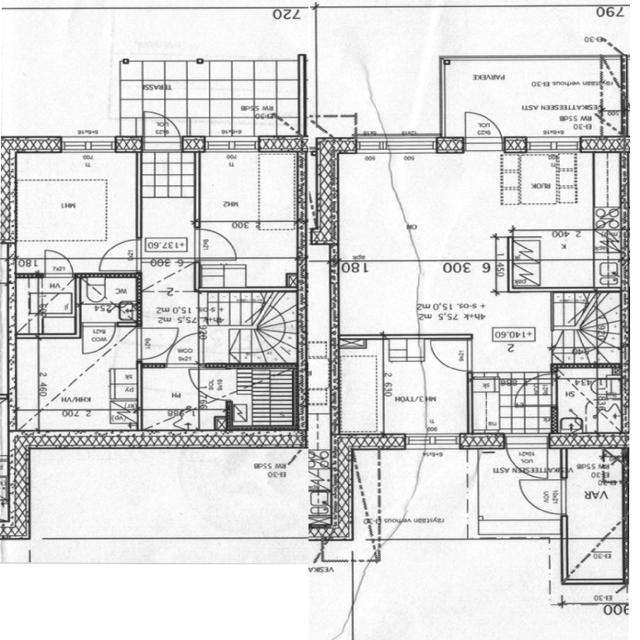door: (517, 476, 568, 516), (192, 222, 241, 262), (427, 335, 476, 374), (504, 438, 548, 481), (139, 111, 183, 150), (134, 326, 178, 363), (461, 109, 506, 145), (165, 328, 205, 368), (98, 236, 141, 268), (79, 321, 118, 356), (40, 245, 76, 278)
window: (434, 60, 453, 139), (58, 136, 121, 156), (403, 432, 462, 452), (524, 134, 584, 153)
zone: (357, 535, 569, 640), (333, 150, 520, 261), (5, 150, 142, 271), (332, 337, 468, 439), (443, 58, 611, 138), (7, 336, 140, 435), (195, 147, 305, 257), (506, 151, 607, 232), (507, 230, 629, 290), (197, 364, 300, 430), (140, 365, 230, 434), (552, 365, 626, 446), (563, 448, 628, 540), (138, 261, 200, 327), (19, 274, 77, 337), (140, 197, 197, 260), (77, 274, 143, 325), (563, 536, 627, 584)
